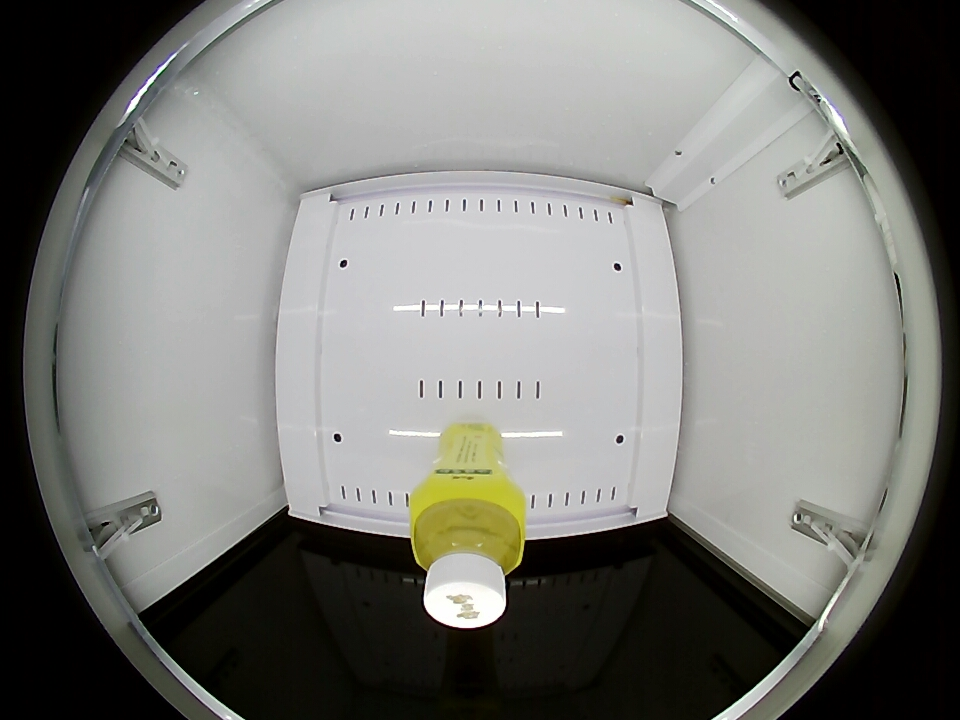bingtangxueli: (409, 479, 528, 629)
